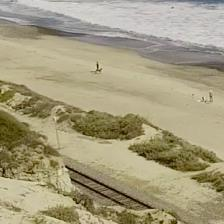surfer: (171, 6, 174, 9)
